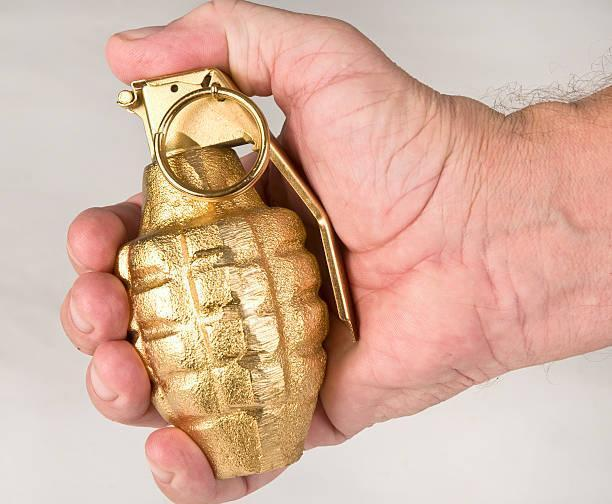Grenade: (113, 65, 356, 479)
